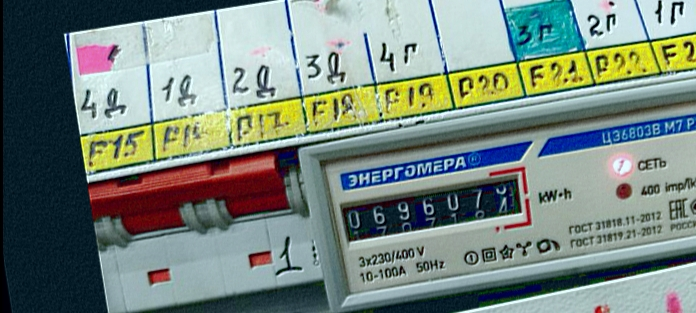0: (446, 188, 464, 212), (347, 207, 364, 230)
4: (497, 194, 513, 216)
6: (372, 202, 389, 225), (421, 194, 438, 216)
7: (471, 186, 489, 209)
9: (396, 198, 413, 221)
screen: (328, 163, 540, 253)
